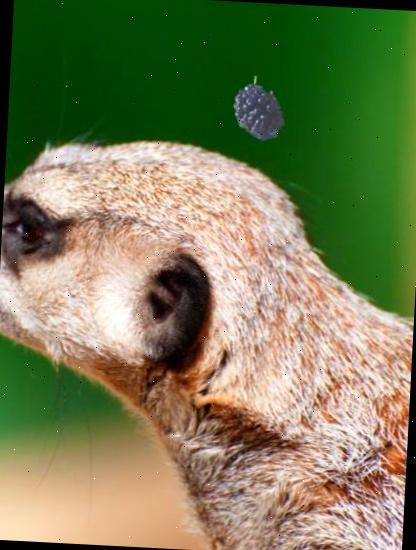Mulberry: (216, 75, 290, 150)
